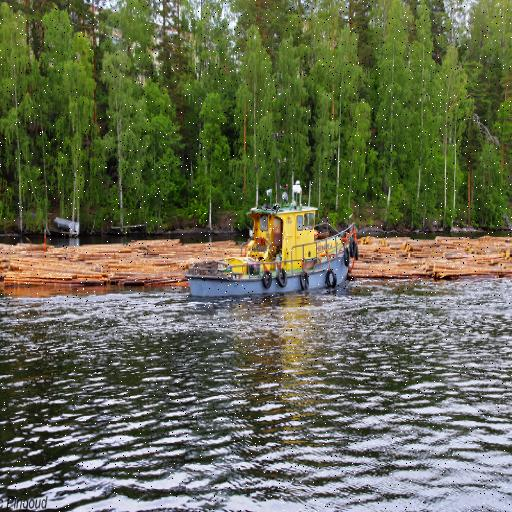tugboat: (183, 164, 362, 314)
